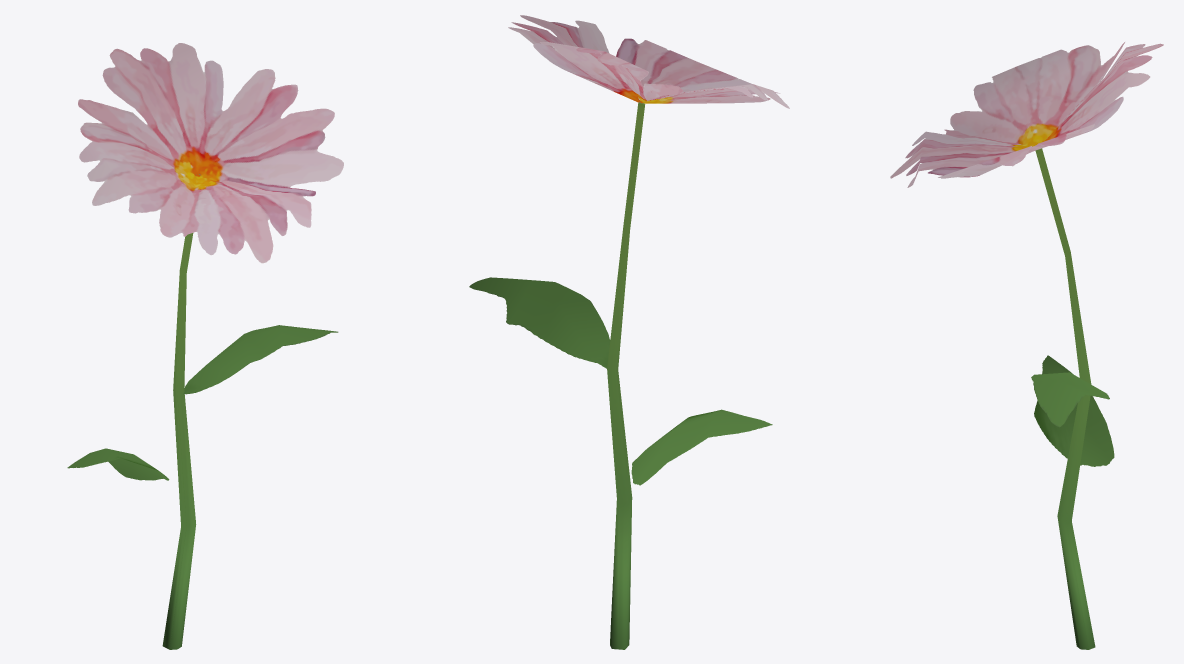
Rendered from FlowerB_VAR.fbx.
3 renders of one model, left to right at view 1: azimuth 30°, elevation 25°; view 2: azimuth 150°, elevation 25°; view 3: azimuth 270°, elevation 25°, orthographic. The views are drawn at different scales.
Visible parts, largest first — view 1: FlowerB_VARLOD0; view 2: FlowerB_VARLOD0; view 3: FlowerB_VARLOD0.
Boxes of the visible parts, x1,y1,x2,y2 form: FlowerB_VARLOD0: [67, 43, 343, 649]; FlowerB_VARLOD0: [469, 15, 789, 649]; FlowerB_VARLOD0: [890, 42, 1163, 649].
Size of what is drawn, in the model's own units: 35.15 by 61.33 by 26.53.
